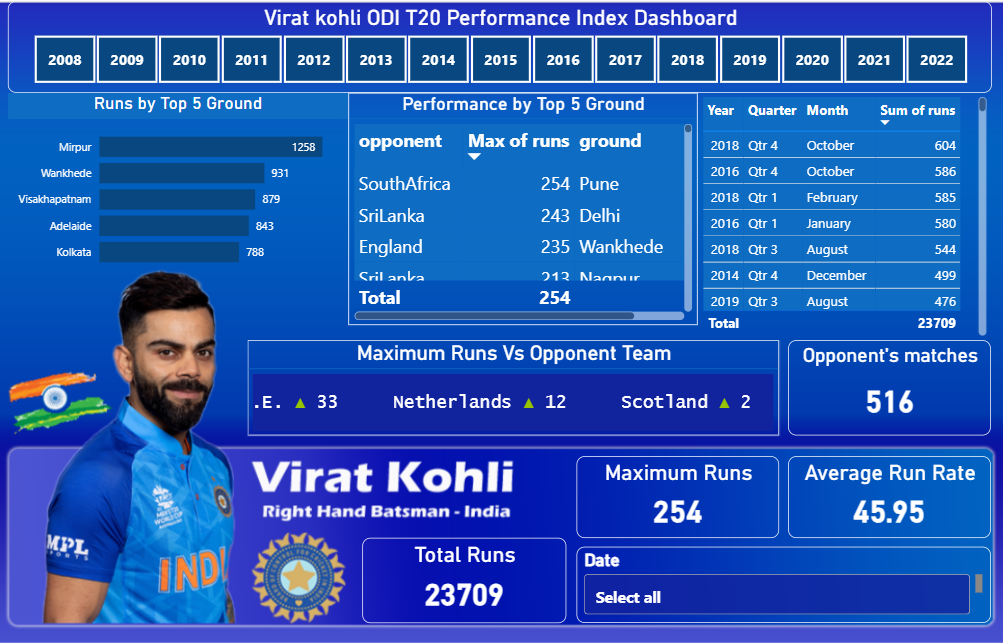

The dashboard page shown, as its layout file describes it:
{"tool":"powerbi","page":{"name":"Page 1","canvas":[1280,720],"ordinal":0},"visuals":[{"type":"slicer","title":"Virat kohli ODI T20 Performance Index Dashboard ","fields":{"Values":["final.date.Variation.Date Hierarchy.Year"]},"box":[92.1,0,1093.7,102],"z":0},{"type":"barChart","title":"Runs by Top 5 Ground","fields":{"Y":["Sum(final.runs)"],"Category":["final.ground"]},"box":[91.7,101.6,378,205.8],"z":1000},{"type":"tableEx","fields":{"Values":["final.date.Variation.Date Hierarchy.Year","final.date.Variation.Date Hierarchy.Quarter","final.date.Variation.Date Hierarchy.Month","Sum(final.runs)"]},"box":[858.5,102,325.8,274.8],"z":2000},{"type":"ScrollingTextVisual1448795304508","title":"Maximum Runs Vs Opponent Team ","fields":{"Measure Deviation":["Max(final.runs)"],"Category":["final.opponent"]},"box":[358.4,376.8,590.8,106.3],"z":3000},{"type":"card","title":"Opponent''s matches","fields":{"Values":["CountNonNull(final.match)"]},"box":[959.1,376.8,225.3,106.3],"z":4000},{"type":"card","title":"Maximum Runs","fields":{"Values":["Max(final.runs)"]},"box":[723.9,505.8,225.3,90.7],"z":5000},{"type":"card","title":"Average Run Rate","fields":{"Values":["Avg(final.runs)"]},"box":[959.1,505.8,225.3,90.7],"z":6000},{"type":"tableEx","title":"Performance by Top 5 Ground","fields":{"Values":["final.opponent","Max(final.runs)","final.ground"]},"box":[470.3,102,388.2,257.8],"z":8000},{"type":"card","title":"Total Runs","fields":{"Values":["Sum(final.runs)"]},"box":[485.9,596.4,226.7,94.9],"z":8001},{"type":"advancedSlicerVisual","title":"Date","fields":{"Values":["final.date"]},"box":[723.9,606.3,460.4,85],"z":8002}]}

Visuals, with their boxes on the page's 1280x720 design canvas (x1, y1, x2, y2). These are canvas units, not pixel positions in the 1003x643 screenshot, which may show the page scaled, cropped or inside an application window:
"Virat kohli ODI T20 Performance Index Dashboard " slicer: [left=92, top=0, right=1186, bottom=102]
"Runs by Top 5 Ground" barChart: [left=92, top=102, right=470, bottom=307]
tableEx - final.date.Variation.Date Hierarchy.Year x final.date.Variation.Date Hierarchy.Quarter: [left=858, top=102, right=1184, bottom=377]
"Maximum Runs Vs Opponent Team " ScrollingTextVisual1448795304508: [left=358, top=377, right=949, bottom=483]
"Opponent''s matches" card: [left=959, top=377, right=1184, bottom=483]
"Maximum Runs" card: [left=724, top=506, right=949, bottom=596]
"Average Run Rate" card: [left=959, top=506, right=1184, bottom=596]
"Performance by Top 5 Ground" tableEx: [left=470, top=102, right=858, bottom=360]
"Total Runs" card: [left=486, top=596, right=713, bottom=691]
"Date" advancedSlicerVisual: [left=724, top=606, right=1184, bottom=691]
